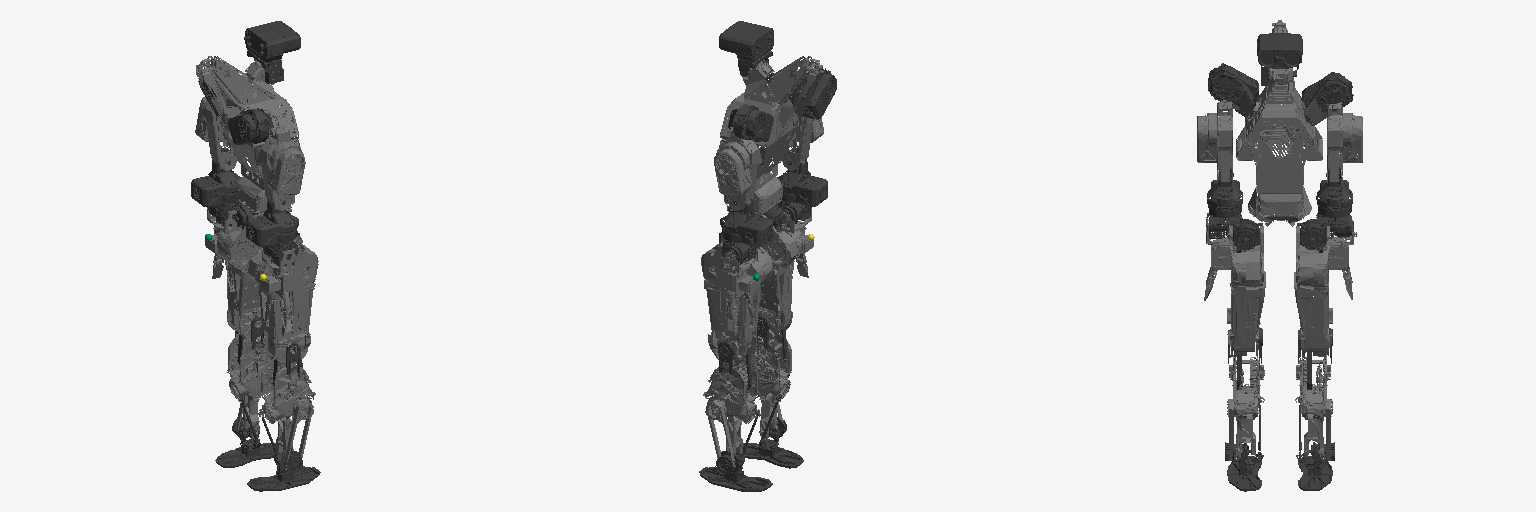
--- Facts derived from the render (not from the file) ---
Views: 3 orthographic renders of the robot side by side, from view 1: azimuth 30°, elevation 25°; view 2: azimuth 150°, elevation 25°; view 3: azimuth 270°, elevation 25°.
Model draco_3 with 39 links and 38 joints (27 revolute, 11 fixed), rooted at torso_link, posed all joints at 0.
Visible links, largest first — view 1: torso_link, r_hip_fe_link, r_knee_fe_ld, l_hip_fe_link, r_shoulder_ie_link, l_knee_fe_ld, neck_pitch_link, r_elbow_fe_link, l_elbow_fe_link, r_sake_gripper_link, l_shoulder_ie_link, r_shoulder_fe_link (+3 smaller); view 2: torso_link, l_hip_fe_link, l_knee_fe_ld, r_hip_fe_link, l_shoulder_ie_link, r_knee_fe_ld, neck_pitch_link, l_elbow_fe_link, r_elbow_fe_link, l_sake_gripper_link, l_shoulder_fe_link, l_ankle_ie_link (+5 smaller); view 3: torso_link, r_hip_fe_link, l_hip_fe_link, r_knee_fe_ld, l_knee_fe_ld, r_shoulder_ie_link, l_shoulder_ie_link, r_shoulder_fe_link, neck_pitch_link, l_shoulder_fe_link, l_elbow_fe_link, r_elbow_fe_link (+7 smaller).
Link boxes in pixels (left/top/right/bottom): torso_link: left=196, top=56, right=300, bottom=215; r_hip_fe_link: left=247, top=236, right=318, bottom=365; r_knee_fe_ld: left=257, top=358, right=315, bottom=470; l_hip_fe_link: left=217, top=213, right=264, bottom=340; r_shoulder_ie_link: left=261, top=126, right=305, bottom=210; l_knee_fe_ld: left=227, top=333, right=271, bottom=439; neck_pitch_link: left=244, top=21, right=300, bottom=83; r_elbow_fe_link: left=246, top=195, right=298, bottom=246; l_elbow_fe_link: left=191, top=148, right=241, bottom=206; r_sake_gripper_link: left=260, top=248, right=297, bottom=332; l_shoulder_ie_link: left=195, top=97, right=237, bottom=170; r_shoulder_fe_link: left=228, top=108, right=274, bottom=145; torso_link: left=719, top=56, right=823, bottom=215; l_hip_fe_link: left=701, top=238, right=772, bottom=365; l_knee_fe_ld: left=703, top=358, right=762, bottom=470; r_hip_fe_link: left=754, top=203, right=802, bottom=339; l_shoulder_ie_link: left=714, top=127, right=758, bottom=210; r_knee_fe_ld: left=749, top=334, right=791, bottom=439; neck_pitch_link: left=719, top=21, right=773, bottom=76; l_elbow_fe_link: left=720, top=194, right=772, bottom=246; r_elbow_fe_link: left=777, top=148, right=827, bottom=206; l_sake_gripper_link: left=721, top=246, right=759, bottom=331; l_shoulder_fe_link: left=728, top=104, right=773, bottom=141; l_ankle_ie_link: left=699, top=411, right=772, bottom=491; torso_link: left=1236, top=20, right=1322, bottom=226; r_hip_fe_link: left=1227, top=223, right=1265, bottom=356; l_hip_fe_link: left=1294, top=226, right=1332, bottom=357; r_knee_fe_ld: left=1227, top=355, right=1264, bottom=460; l_knee_fe_ld: left=1295, top=354, right=1332, bottom=460; r_shoulder_ie_link: left=1197, top=100, right=1232, bottom=185; l_shoulder_ie_link: left=1327, top=102, right=1362, bottom=185; r_shoulder_fe_link: left=1208, top=63, right=1259, bottom=117; neck_pitch_link: left=1257, top=33, right=1302, bottom=85; l_shoulder_fe_link: left=1301, top=72, right=1353, bottom=125; l_elbow_fe_link: left=1316, top=167, right=1352, bottom=217; r_elbow_fe_link: left=1207, top=167, right=1242, bottom=217.
Bounding box of the posed robot: 0.3421 × 0.4744 × 1.38 m (x, y, z).
24 mesh visuals loaded from 30 distinct referenced files (24 binary STL); not drawn: 6 (reference not matched to a file when rendering).

The robot description file, URDF, robot "draco_3":
<?xml version="1.0" ?>
<robot name="draco_3" xmlns:xacro="http://www.ros.org/wiki/xacro">

  <material name = "dark_gray">
      <color rgba="0.3 0.3 0.3 1"/>
  </material>

  <material name="gray">
    <color rgba="0.5 0.5 0.5 1.0"/>
  </material>

  <material name = "light_blue">
      <color rgba="0.52 0.73 1 1"/>
  </material>

  <material name = "black">
      <color rgba="0 0 0 1"/>
  </material>

  <!--=============================== root (torso) ===========================-->
  <link name="torso_link">
    <visual>
      <origin rpy="0 -0 0" xyz="0 0 0"/>
      <geometry>
        <mesh filename="meshes/torso_link.stl"/>
      </geometry>
      <material name="gray"/>
    </visual>
    <inertial>
      <origin rpy="0 0 0" xyz="-0.0310745 -0.000497416 0.137484"/>
      <mass value="6.41443"/>
      <inertia ixx="0.171435" ixy="6.32882e-05" ixz="0.0271615" iyy="0.175671" iyz="0.000581149" izz="0.036373"/>
    </inertial>
  </link>

  <!--=============================== torso_com (torso_com_link) ===========================-->
  <joint name="torso_com" type="fixed">
    <origin rpy="0 0 0" xyz="-0.0310745 -0.000497416 0.137484"/>
    <parent link="torso_link"/>
    <child link="torso_com_link"/>
  </joint>
  <link name="torso_com_link">
    <inertial>
      <origin rpy="0 0 0" xyz="0 0 0"/>
      <mass value="1e-9"/>
      <inertia ixx="0" ixy="0" ixz="0" iyy="0" iyz="0" izz="0"/>
    </inertial>
  </link>

  <!--=============================== neck_pitch (neck_pitch_link) ===========================-->
  <joint name="neck_pitch" type="revolute">
    <origin rpy="0 0 0" xyz="-0.0025 0 0.352"/>
    <parent link="torso_link"/>
    <child link="neck_pitch_link"/>
    <axis xyz="0 1 0"/>
    <limit effort="8.8" lower="-0.523599" upper="1.309" velocity="82.8"/>
    <joint_properties friction="0.0"/>
  </joint>
  <link name="neck_pitch_link">
    <visual>
      <origin rpy="0 -0 0" xyz="0 0 0"/>
      <geometry>
        <mesh filename="meshes/neck_pitch_link.stl"/>
      </geometry>
      <material name="dark_gray"/>
    </visual>
    <inertial>
      <origin rpy="0 0 0" xyz="0.0133603 -0.00105814 0.0772145"/>
      <mass value="1.22948"/>
      <inertia ixx="0.00233791" ixy="-2.09082e-05" ixz="-0.000158016" iyy="0.00192287" iyz="-9.56707e-05" izz="0.00275375"/>
    </inertial>
  </link>

  <!--=============================== l_shoulder_fe (l_shoulder_fe_link) ===========================-->
  <joint name="l_shoulder_fe" type="revolute">
    <origin rpy="0.523599 0 0" xyz="-0.05 0.156 0.2625"/>
    <parent link="torso_link"/>
    <child link="l_shoulder_fe_link"/>
    <axis xyz="0 1 0"/>
    <limit effort="18" lower="-2.26893" upper="0.698132" velocity="30"/>
    <joint_properties friction="0.0"/>
  </joint>
  <link name="l_shoulder_fe_link">
    <visual>
      <origin rpy="0 -0 0" xyz="0 0 0"/>
      <geometry>
        <mesh filename="meshes/l_shoulder_fe_link.stl"/>
      </geometry>
      <material name="dark_gray"/>
    </visual>
    <inertial>
      <origin rpy="0 0 0" xyz="-0.0270089 -0.0272215 0"/>
      <mass value="1.02127"/>
      <inertia ixx="0.003" ixy="0.000188" ixz="-1.077e-04" iyy="0.002" iyz="-4.214e-07" izz="0.002"/>
    </inertial>
  </link>

  <!--=============================== l_shoulder_aa (l_shoulder_aa_link) ===========================-->
  <joint name="l_shoulder_aa" type="revolute">
    <origin rpy="-0.523599 0 0" xyz="0 0 0"/>
    <parent link="l_shoulder_fe_link"/>
    <child link="l_shoulder_aa_link"/>
    <axis xyz="1 0 0"/>
    <limit effort="18" lower="0" upper="2.0944" velocity="30"/>
    <joint_properties friction="0.0"/>
  </joint>
  <link name="l_shoulder_aa_link">
    <visual>
      <origin rpy="0 -0 0" xyz="0 0 0"/>
      <geometry>
        <mesh filename="meshes/l_shoulder_aa_link.stl"/>
      </geometry>
      <material name="dark_gray"/>
    </visual>
    <inertial>
      <origin rpy="0 0 0" xyz="0.0189446 0.000135529 0.00688183"/>
      <mass value="0.880498"/>
      <inertia ixx="0.00104194" ixy="5.17675e-06" ixz="-0.000110264" iyy="0.00190054" iyz="6.87354e-06" izz="0.00224159"/>
    </inertial>
  </link>

  <!--=============================== l_shoulder_ie (l_shoulder_ie_link) ===========================-->
  <joint name="l_shoulder_ie" type="revolute">
    <origin rpy="0 0 0" xyz="0 0 0"/>
    <parent link="l_shoulder_aa_link"/>
    <child link="l_shoulder_ie_link"/>
    <axis xyz="0 0 1"/>
    <limit effort="18" lower="-1.48353" upper="1.48353" velocity="30"/>
    <joint_properties friction="0.0"/>
  </joint>
  <link name="l_shoulder_ie_link">
    <visual>
      <origin rpy="0 -0 0" xyz="0 0 0"/>
      <geometry>
        <mesh filename="meshes/l_shoulder_ie_link.stl"/>
      </geometry>
      <material name="gray"/>
    </visual>
    <inertial>
      <origin rpy="0 0 0" xyz="-0.00401807 0.0300008 -0.137263"/>
      <mass value="1.21235"/>
      <inertia ixx="0.00490878" ixy="4.35994e-05" ixz="-6.63613e-05" iyy="0.00459797" iyz="3.61794e-05" izz="0.00207282"/>
    </inertial>
  </link>

  <!--=============================== l_elbow_fe (l_elbow_fe_link) ===========================-->
  <joint name="l_elbow_fe" type="revolute">
    <origin rpy="0 0 0" xyz="0 0 -0.25"/>
    <parent link="l_shoulder_ie_link"/>
    <child link="l_elbow_fe_link"/>
    <axis xyz="0 1 0"/>
    <limit effort="10" lower="-2.0944" upper="0.0872665" velocity="37.1"/>
    <joint_properties friction="0.0"/>
  </joint>
  <link name="l_elbow_fe_link">
    <visual>
      <origin rpy="0 -0 0" xyz="0 0 0"/>
      <geometry>
        <mesh filename="meshes/l_elbow_fe_link.stl"/>
      </geometry>
      <material name="dark_gray"/>
    </visual>
    <inertial>
      <origin rpy="0 0 0" xyz="-0.0190443 0 -0.0633779"/>
      <mass value="0.989887"/>
      <inertia ixx="0.00220347" ixy="-2.91162e-08" ixz="-0.000310918" iyy="0.00297439" iyz="2.27665e-07" izz="0.0021045"/>
    </inertial>
  </link>

  <!--=============================== l_wrist_ps (l_wrist_ps_link) ===========================-->
  <joint name="l_wrist_ps" type="revolute">
    <origin rpy="0 0 0" xyz="0 0 0"/>
    <parent link="l_elbow_fe_link"/>
    <child link="l_wrist_ps_link"/>
    <axis xyz="0 0 1"/>
    <limit effort="12" lower="-1.5708" upper="1.5708" velocity="44.5"/>
    <joint_properties friction="0.0"/>
  </joint>
  <link name="l_wrist_ps_link">
    <visual>
      <origin rpy="0 -0 0" xyz="0 0 0"/>
      <geometry>
        <mesh filename="meshes/l_wrist_ps_link.stl"/>
      </geometry>
      <material name="dark_gray"/>
    </visual>
    <inertial>
      <origin rpy="0 0 0" xyz="0.000433726 0.0158433 -0.154"/>
      <mass value="0.64434"/>
      <inertia ixx="0.001" ixy="1.05504e-05" ixz="-5.41208e-06" iyy="0.001" iyz="4.65277e-05" izz="0.001"/>
    </inertial>
  </link>

  <!--=============================== l_wrist_pitch (l_wrist_pitch_link) ===========================-->
  <joint name="l_wrist_pitch" type="revolute">
    <origin rpy="0 0 0" xyz="0 0 -0.1578"/>
    <parent link="l_wrist_ps_link"/>
    <child link="l_wrist_pitch_link"/>
    <axis xyz="0 1 0"/>
    <limit effort="8.8" lower="-1.5708" upper="1.5708" velocity="82.8"/>
    <joint_properties friction="0.0"/>
  </joint>
  <link name="l_wrist_pitch_link">
    <inertial>
      <origin rpy="0 0 0" xyz="0 0 0"/>
      <mass value="1e-9"/>
      <inertia ixx="0" ixy="0" ixz="0" iyy="0" iyz="0" izz="0"/>
    </inertial>
  </link>

  <!--=============================== l_wrist_mount (l_sake_gripper_link) ===========================-->
  <joint name="l_wrist_mount" type="fixed">
    <origin rpy="0 0 0" xyz="0 0 0"/>
    <parent link="l_wrist_pitch_link"/>
    <child link="l_sake_gripper_link"/>
  </joint>
  <link name="l_sake_gripper_link">
    <visual>
      <origin rpy="0 -0 3.14" xyz="0 0 0"/>
      <geometry>
        <mesh filename="meshes/l_sake_gripper_link.stl"/>
      </geometry>
      <material name="gray"/>
    </visual>
    <inertial>
      <origin rpy="0 0 0" xyz="5.4498e-05 0.000382544 -0.0372594"/>
      <mass value="0.545"/>
      <inertia ixx="0.001" ixy="3.07738e-09" ixz="2.26958e-07" iyy="0.0004628" iyz="-6.35882e-06" izz="0.001"/>
    </inertial>
  </link>

  <!--=============================== l_camera_frame (l_camera) ===========================-->
  <joint name="l_camera_frame" type="fixed">
      <!--circle-->
      <!--<origin rpy="0 0 0" xyz="-0.05535 0 -0.0975"/> -->
      <!--camera (45 deg)-->
      <!--<origin rpy="0 2.355 0" xyz="-0.07267 0 -0.0802"/> -->
      <!--camera (90 deg)-->
      <origin rpy="0 3.14 0" xyz="-0.05535 0 -0.073"/>
    <parent link="l_sake_gripper_link"/>
    <child link="l_camera"/>
    <axis xyz="0 0 0"/>
  </joint>
  <link name="l_camera">
    <inertial>
      <origin rpy="0 0 0" xyz="0 0 0"/>
      <mass value="1e-9"/>
      <inertia ixx="0" ixy="0" ixz="0" iyy="0" iyz="0" izz="0"/>
    </inertial>
    <visual>
      <origin rpy="0 0 0" xyz="0 0 0"/>
      <geometry>
          <sphere radius="0.01"/>
      </geometry>
    </visual>
  </link>

  <!--=============================== l_hand_contact_frame (l_hand_contact) ===========================-->
  <joint name="l_hand_contact_frame" type="fixed">
    <origin rpy="0 0 0" xyz="0 0 -0.150052"/>
    <parent link="l_sake_gripper_link"/>
    <child link="l_hand_contact"/>
    <axis xyz="0 0 0"/>
  </joint>
  <link name="l_hand_contact">
    <inertial>
      <origin rpy="0 0 0" xyz="0 0 0"/>
      <mass value="1e-9"/>
      <inertia ixx="0" ixy="0" ixz="0" iyy="0" iyz="0" izz="0"/>
    </inertial>
  </link>

  <!--=============================== r_shoulder_fe (r_shoulder_fe_link) ===========================-->
  <joint name="r_shoulder_fe" type="revolute">
    <origin rpy="-0.523599 0 0" xyz="-0.05 -0.156 0.2625"/>
    <parent link="torso_link"/>
    <child link="r_shoulder_fe_link"/>
    <axis xyz="0 1 0"/>
    <limit effort="18" lower="-2.26893" upper="0.698132" velocity="30"/>
    <joint_properties friction="0.0"/>
  </joint>
  <link name="r_shoulder_fe_link">
    <visual>
      <origin rpy="0 -0 0" xyz="0 0 0"/>
      <geometry>
        <mesh filename="meshes/r_shoulder_fe_link.stl"/>
      </geometry>
      <material name="dark_gray"/>
    </visual>
    <inertial>
      <origin rpy="0 0 0" xyz="-0.0825089 0.0272215 6.40505e-05"/>
      <mass value="1.02127"/>
      <inertia ixx="0.003" ixy="-0.000198378" ixz="3.31293e-05" iyy="0.002" iyz="-3.00004e-06" izz="0.002"/>
    </inertial>
  </link>

  <!--=============================== r_shoulder_aa (r_shoulder_aa_link) ===========================-->
  <joint name="r_shoulder_aa" type="revolute">
    <origin rpy="0.523599 0 0" xyz="0 0 0"/>
    <parent link="r_shoulder_fe_link"/>
    <child link="r_shoulder_aa_link"/>
    <axis xyz="1 0 0"/>
    <limit effort="18" lower="-2.0944" upper="0" velocity="30"/>
    <joint_properties friction="0.0"/>
  </joint>
  <link name="r_shoulder_aa_link">
    <visual>
      <origin rpy="0 -0 0" xyz="0 0 0"/>
      <geometry>
        <mesh filename="meshes/r_shoulder_aa_link.stl"/>
      </geometry>
      <material name="dark_gray"/>
    </visual>
    <inertial>
      <origin rpy="0 0 0" xyz="0.0189446 0.000135529 0.00688183"/>
      <mass value="0.880498"/>
      <inertia ixx="0.00104194" ixy="5.17675e-06" ixz="-0.000110264" iyy="0.00190054" iyz="6.87354e-06" izz="0.00224159"/>
    </inertial>
  </link>

  <!--=============================== r_shoulder_ie (r_shoulder_ie_link) ===========================-->
  <joint name="r_shoulder_ie" type="revolute">
    <origin rpy="0 0 0" xyz="0 0 0"/>
    <parent link="r_shoulder_aa_link"/>
    <child link="r_shoulder_ie_link"/>
    <axis xyz="0 0 1"/>
    <limit effort="18" lower="-1.48353" upper="1.48353" velocity="30"/>
    <joint_properties friction="0.0"/>
  </joint>
  <link name="r_shoulder_ie_link">
    <visual>
      <origin rpy="0 -0 0" xyz="0 0 0"/>
      <geometry>
        <mesh filename="meshes/r_shoulder_ie_link.stl"/>
      </geometry>
      <material name="gray"/>
    </visual>
    <inertial>
      <origin rpy="0 0 0" xyz="-0.00404627 -0.029987 -0.137257"/>
      <mass value="1.21235"/>
      <inertia ixx="0.00490973" ixy="-4.37742e-05" ixz="-6.62765e-05" iyy="0.00459809" iyz="-3.39569e-05" izz="0.002074"/>
    </inertial>
  </link>

  <!--=============================== r_elbow_fe (r_elbow_fe_link) ===========================-->
  <joint name="r_elbow_fe" type="revolute">
    <origin rpy="0 0 0" xyz="0 0 -0.25"/>
    <parent link="r_shoulder_ie_link"/>
    <child link="r_elbow_fe_link"/>
    <axis xyz="0 1 0"/>
    <limit effort="10" lower="-2.0944" upper="0.0872665" velocity="37.1"/>
    <joint_properties friction="0.0"/>
  </joint>
  <link name="r_elbow_fe_link">
    <visual>
      <origin rpy="0 -0 0" xyz="0 0 0"/>
      <geometry>
        <mesh filename="meshes/r_elbow_fe_link.stl"/>
      </geometry>
      <material name="dark_gray"/>
    </visual>
    <inertial>
      <origin rpy="0 0 0" xyz="-0.0190415 1.75896e-05 -0.0633849"/>
      <mass value="0.990031"/>
      <inertia ixx="0.00220407" ixy="-2.9063e-08" ixz="-0.000310786" iyy="0.00297478" iyz="2.27528e-07" izz="0.00210481"/>
    </inertial>
  </link>

  <!--=============================== r_wrist_ps (r_wrist_ps_link) ===========================-->
  <joint name="r_wrist_ps" type="revolute">
    <origin rpy="0 0 0" xyz="0 0 0"/>
    <parent link="r_elbow_fe_link"/>
    <child link="r_wrist_ps_link"/>
    <axis xyz="0 0 1"/>
    <limit effort="12" lower="-1.5708" upper="1.5708" velocity="44.5"/>
    <joint_properties friction="0.0"/>
  </joint>
  <link name="r_wrist_ps_link">
    <visual>
      <origin rpy="0 -0 0" xyz="0 0 0"/>
      <geometry>
        <mesh filename="meshes/r_wrist_ps_link.stl"/>
      </geometry>
      <material name="dark_gray"/>
    </visual>
    <inertial>
      <origin rpy="0 0 0" xyz="0.000229308 0.0158433 -0.154481"/>
      <mass value="0.64434"/>
      <inertia ixx="0.001" ixy="5.23851e-06" ixz="-4.22277e-06" iyy="0.001" iyz="3.40912e-05" izz="0.001"/>
    </inertial>
  </link>

  <!--=============================== r_wrist_pitch (r_wrist_pitch_link) ===========================-->
  <joint name="r_wrist_pitch" type="revolute">
    <origin rpy="0 0 0" xyz="0 0 -0.1578"/>
    <parent link="r_wrist_ps_link"/>
    <child link="r_wrist_pitch_link"/>
    <axis xyz="0 1 0"/>
    <limit effort="8.8" lower="-1.5708" upper="1.5708" velocity="82.8"/>
    <joint_properties friction="0.0"/>
  </joint>
  <link name="r_wrist_pitch_link">
    <inertial>
      <origin rpy="0 0 0" xyz="0 0 0"/>
      <mass value="1e-9"/>
      <inertia ixx="0" ixy="0" ixz="0" iyy="0" iyz="0" izz="0"/>
    </inertial>
  </link>

  <!--=============================== r_wrist_mount (r_sake_gripper_link) ===========================-->
  <joint name="r_wrist_mount" type="fixed">
    <origin rpy="0 0 0" xyz="0 0 0"/>
    <parent link="r_wrist_pitch_link"/>
    <child link="r_sake_gripper_link"/>
  </joint>
  <link name="r_sake_gripper_link">
    <visual>
      <origin rpy="0 -0 3.14" xyz="0 0 0"/>
      <geometry>
        <mesh filename="meshes/r_sake_gripper_link.stl"/>
      </geometry>
      <material name="gray"/>
    </visual>
    <inertial>
      <origin rpy="0 0 0" xyz="5.4498e-05 0.000382544 -0.0372594"/>
      <mass value="0.545"/>
      <inertia ixx="0.001" ixy="3.07738e-09" ixz="2.26958e-07" iyy="0.0004628" iyz="-6.35882e-06" izz="0.001"/>
    </inertial>
  </link>

  <!--=============================== r_camera_frame (r_camera) ===========================-->
  <joint name="r_camera_frame" type="fixed">
      <!--circle-->
      <!--<origin rpy="0 0 0" xyz="-0.05535 0 -0.0975"/> -->
      <!--camera (45 deg)-->
      <!--<origin rpy="0 2.355 0" xyz="-0.07267 0 -0.0802"/> -->
      <!--camera (90 deg)-->
      <origin rpy="0 3.14 0" xyz="-0.05535 0 -0.073"/>
    <parent link="r_sake_gripper_link"/>
    <child link="r_camera"/>
    <axis xyz="0 0 0"/>
  </joint>
  <link name="r_camera">
    <inertial>
      <origin rpy="0 0 0" xyz="0 0 0"/>
      <mass value="1e-9"/>
      <inertia ixx="0" ixy="0" ixz="0" iyy="0" iyz="0" izz="0"/>
    </inertial>
    <visual>
      <origin rpy="0 0 0" xyz="0 0 0"/>
      <geometry>
          <sphere radius="0.01"/>
      </geometry>
    </visual>
  </link>

  <!--=============================== r_hand_contact_frame (r_hand_contact) ===========================-->
  <joint name="r_hand_contact_frame" type="fixed">
    <origin rpy="0 0 0" xyz="0 0 -0.150052"/>
    <parent link="r_sake_gripper_link"/>
    <child link="r_hand_contact"/>
    <axis xyz="0 0 0"/>
  </joint>
  <link name="r_hand_contact">
    <inertial>
      <origin rpy="0 0 0" xyz="0 0 0"/>
      <mass value="1e-9"/>
      <inertia ixx="0" ixy="0" ixz="0" iyy="0" iyz="0" izz="0"/>
    </inertial>
  </link>

  <!--=============================== l_hip_ie (l_hip_ie_link) ===========================-->
  <joint name="l_hip_ie" type="revolute">
    <origin rpy="0.523599 0 0" xyz="0 0.06 -0.0893782"/>
    <parent link="torso_link"/>
    <child link="l_hip_ie_link"/>
    <axis xyz="0 0 1"/>
    <limit effort="44" lower="-0.872665" upper="0.872665" velocity="8.1"/>
    <joint_properties friction="0.0"/>
  </joint>
  <link name="l_hip_ie_link">
    <visual>
      <origin rpy="0 -0 0" xyz="0 0 0"/>
      <geometry>
        <mesh filename="meshes/l_hip_ie_link.stl"/>
      </geometry>
      <material name="dark_gray"/>
    </visual>
    <inertial>
      <origin rpy="0 0 0" xyz="-0.00699855 0.00580214 -0.0245826"/>
      <mass value="0.139743"/>
      <inertia ixx="0.000107251" ixy="-6.29131e-06" ixz="5.03369e-06" iyy="0.000199571" iyz="-2.59816e-07" izz="0.00015888"/>
    </inertial>
  </link>

  <!--=============================== l_hip_aa (l_hip_aa_link) ===========================-->
  <joint name="l_hip_aa" type="revolute">
    <origin rpy="-0.523599 0 0" xyz="0 0 -0.07"/>
    <parent link="l_hip_ie_link"/>
    <child link="l_hip_aa_link"/>
    <axis xyz="1 0 0"/>
    <limit effort="56" lower="-0.261799" upper="0.785398" velocity="5.1"/>
    <joint_properties friction="0.0"/>
  </joint>
  <link name="l_hip_aa_link">
    <visual>
      <origin rpy="0 -0 0" xyz="0 0 0"/>
      <geometry>
        <mesh filename="meshes/l_hip_aa_link.stl"/>
      </geometry>
      <material name="dark_gray"/>
    </visual>
    <inertial>
      <origin rpy="0 0 0" xyz="0.00107664 0.00164809 -0.00149004"/>
      <mass value="0.77975"/>
      <inertia ixx="0.001" ixy="1.93711e-05" ixz="-1.45347e-06" iyy="0.001" iyz="2.96392e-05" izz="0.001"/>
    </inertial>
  </link>

  <!--=============================== l_hip_fe (l_hip_fe_link) ===========================-->
  <joint name="l_hip_fe" type="revolute">
    <origin rpy="0 0 0" xyz="0 0 0"/>
    <parent link="l_hip_aa_link"/>
    <child link="l_hip_fe_link"/>
    <axis xyz="0 1 0"/>
    <limit effort="59.6" lower="-1.52716" upper="0.523599" velocity="36.7"/>
    <joint_properties friction="0.0"/>
  </joint>
  <link name="l_hip_fe_link">
    <visual>
      <origin rpy="0 -0 0" xyz="0 0 0"/>
      <geometry>
        <mesh filename="meshes/l_hip_fe_link.stl"/>
      </geometry>
      <material name="gray"/>
    </visual>
    <inertial>
      <origin rpy="0 0 0" xyz="0.00057 -0.00303734 -0.164021"/>
      <mass value="4.549"/>
      <inertia ixx="0.0497956" ixy="0.000306806" ixz="0.000744022" iyy="0.0552997" iyz="0.00394109" izz="0.0129964"/>
    </inertial>
  </link>

  <!--=============================== l_knee_fe_jp (l_knee_fe_lp) ===========================-->
  <joint name="l_knee_fe_jp" type="revolute">
    <origin rpy="0 0 0" xyz="0 0 -0.324231"/>
    <parent link="l_hip_fe_link"/>
    <child link="l_knee_fe_lp"/>
    <axis xyz="0 1 0"/>
    <limit effort="40.85" lower="-0.0872665" upper="1.52716" velocity="13.35"/>
    <joint_properties friction="0.0"/>
  </joint>
  <link name="l_knee_fe_lp">
    <visual>
      <origin rpy="0 -0 0" xyz="0 0 0"/>
      <geometry>
        <mesh filename="meshes/l_knee_fe_lp.stl"/>
      </geometry>
      <material name="dark_gray"/>
    </visual>
    <inertial>
      <origin rpy="0 0 0" xyz="-4.80156e-09 0.00425279 -0.0291238"/>
      <mass value="0.135683"/>
      <inertia ixx="0.00048051" ixy="4.39106e-11" ixz="3.91495e-11" iyy="0.000329965" iyz="-3.71846e-05" izz="0.000282787"/>
    </inertial>
  </link>

  <!--=============================== l_knee_adj (l_knee_adj_link) ===========================-->
  <joint name="l_knee_adj" type="fixed">
    <origin rpy="0 0 0" xyz="0 0 -0.0557693"/>
    <parent link="l_knee_fe_lp"/>
    <child link="l_knee_adj_link"/>
  </joint>
  <link name="l_knee_adj_link">
    <visual>
      <origin rpy="0 -0 0" xyz="0 0 0"/>
      <geometry>
        <mesh filename="meshes/l_knee_adj_link.stl"/>
      </geometry>
      <material name="dark_gray"/>
    </visual>
    <inertial>
      <origin rpy="0 0 0" xyz="0 0.006 -0.0323676"/>
      <mass value="0.090042"/>
      <inertia ixx="0.000230283" ixy="7.86884e-09" ixz="-1.29921e-20" iyy="7.20839e-05" iyz="-1.23413e-18" izz="0.000195694"/>
    </inertial>
  </link>

  <!--=============================== l_knee_fe_jd (l_knee_fe_ld) ===========================-->
  <joint name="l_knee_fe_jd" type="revolute">
    <origin rpy="0 0 0" xyz="0 0 -0.1115386"/>
    <parent link="l_knee_fe_lp"/>
    <child link="l_knee_fe_ld"/>
    <axis xyz="0 1 0"/>
    <limit effort="40.85" lower="-0.0872665" upper="1.52716" velocity="13.35"/>
  </joint>
  <link name="l_knee_fe_ld">
    <visual>
      <origin rpy="0 -0 0" xyz="0 0 0"/>
      <geometry>
        <mesh filename="meshes/l_knee_fe_ld.stl"/>
      </geometry>
      <material name="gray"/>
    </visual>
    <inertial>
      <origin rpy="0 0 0" xyz="0.00392246 0.00238405 -0.07941"/>
      <mass value="2.55664"/>
      <inertia ixx="0.011" ixy="-0.000259001" ixz="-0.000169" iyy="0.013" iyz="0.001" izz="0.005"/>
    </inertial>
  </link>

  <!--=============================== l_ankle_fe (l_ankle_fe_link) ===========================-->
  <joint name="l_ankle_fe" type="revolute">
    <origin rpy="0 0 0" xyz="0 0.00599 -0.248231"/>
    <parent link="l_knee_fe_ld"/>
    <child link="l_ankle_fe_link"/>
    <axis xyz="0 1 0"/>
    <limit effort="44" lower="-1.5708" upper="1.0472" velocity="8.1"/>
    <joint_properties friction="0.0"/>
  </joint>
  <link name="l_ankle_fe_link">
    <visual>
      <origin rpy="0 -0 0" xyz="0 0 0"/>
      <geometry>
        <mesh filename="meshes/l_ankle_fe_link.stl"/>
      </geometry>
      <material name="dark_gray"/>
    </visual>
    <inertial>
      <origin rpy="0 0 0" xyz="2.67715e-05 0.0277455 -0.000699218"/>
      <mass value="0.183143"/>
      <inertia ixx="8.90758e-05" ixy="2.90654e-07" ixz="-2.26413e-06" iyy="5.81098e-05" iyz="1.95082e-07" izz="0.000101604"/>
    </inertial>
  </link>

  <!--=============================== l_ankle_ie (l_ankle_ie_link) ===========================-->
  <joint name="l_ankle_ie" type="revolute">
    <origin rpy="0 0 0" xyz="0 0 0"/>
    <parent link="l_ankle_fe_link"/>
    <child link="l_ankle_ie_link"/>
    <axis xyz="1 0 0"/>
    <limit effort="30" lower="-0.785398" upper="0.261799" velocity="11.1"/>
    <joint_properties friction="0.0"/>
  </joint>
  <link name="l_ankle_ie_link">
    <visual>
      <origin rpy="0 -0 0" xyz="0 0 0"/>
      <geometry>
        <mesh filename="meshes/l_ankle_ie_link.stl"/>
      </geometry>
      <material name="dark_gray"/>
    </visual>
    <!--<visual>-->
      <!--<origin rpy="0 -0 0" xyz="0 -0.005 -0.046"/>-->
      <!--<geometry>-->
        <!--<box size="0.2 0.08 0.0591"/>-->
      <!--</geometry>-->
    <!--</visual>-->
    <collision>
      <origin rpy="0 -0 0" xyz="0 -0.005 -0.046"/>
      <geometry>
        <box size="0.2 0.1 0.0591"/>
      </geometry>
    </collision>
    <inertial>
      <origin rpy="0 0 0" xyz="-0.00320518 -0.0068186 -0.0444808"/>
      <mass value="0.436553"/>
      <inertia ixx="0.000962376" ixy="-2.58627e-05" ixz="0.000122026" iyy="0.00165909" iyz="0.000188621" izz="0.00108264"/>
    </inertial>
  </link>

  <!--=============================== l_foot_contact_frame (l_foot_contact) ===========================-->
  <joint name="l_foot_contact_frame" type="fixed">
    <origin rpy="0 0 0" xyz="0 0 -0.076"/>
    <parent link="l_ankle_ie_link"/>
    <child link="l_foot_contact"/>
  </joint>
  <link name="l_foot_contact">
    <inertial>
      <origin rpy="0 0 0" xyz="0 0 0"/>
      <mass value="1e-9"/>
      <inertia ixx="0" ixy="0" ixz="0" iyy="0" iyz="0" izz="0"/>
    </inertial>
  </link>

  <!--=============================== r_hip_ie (r_hip_ie_link) ===========================-->
  <joint name="r_hip_ie" type="revolute">
    <origin rpy="-0.523599 0 0" xyz="0 -0.06 -0.0893782"/>
    <parent link="torso_link"/>
    <child link="r_hip_ie_link"/>
    <axis xyz="0 0 1"/>
    <limit effort="44" lower="-0.872665" upper="0.872665" velocity="8.1"/>
    <joint_properties friction="0.0"/>
  </joint>
  <link name="r_hip_ie_link">
    <visual>
      <origin rpy="0 -0 0" xyz="0 0 0"/>
      <geometry>
        <mesh filename="meshes/r_hip_ie_link.stl"/>
      </geometry>
      <material name="dark_gray"/>
    </visual>
    <inertial>
      <origin rpy="0 0 0" xyz="-0.00703461 -0.00580298 -0.0246181"/>
      <mass value="0.139506"/>
      <inertia ixx="0.000107149" ixy="6.38614e-06" ixz="5.12641e-06" iyy="0.000199317" iyz="2.66262e-07" izz="0.000158733"/>
    </inertial>
  </link>

  <!--=============================== r_hip_aa (r_hip_aa_link) ===========================-->
  <joint name="r_hip_aa" type="revolute">
    <origin rpy="0.523599 0 0" xyz="0 0 -0.07"/>
    <parent link="r_hip_ie_link"/>
    <child link="r_hip_aa_link"/>
    <axis xyz="1 0 0"/>
    <limit effort="56" lower="-0.785398" upper="0.261799" velocity="5.1"/>
    <joint_properties friction="0.0"/>
  </joint>
  <link name="r_hip_aa_link">
    <visual>
      <origin rpy="0 -0 0" xyz="0 0 0"/>
      <geometry>
        <mesh filename="meshes/r_hip_aa_link.stl"/>
      </geometry>
      <material name="dark_gray"/>
    </visual>
    <inertial>
      <origin rpy="0 0 0" xyz="-0.000513526 -0.0019221 -0.00112805"/>
      <mass value="0.849423"/>
      <inertia ixx="0.000807304" ixy="-2.90747e-05" ixz="1.16932e-05" iyy="0.000791593" iyz="-2.47696e-05" izz="0.000937825"/>
    </inertial>
  </link>

  <!--=============================== r_hip_fe (r_hip_fe_link) ===========================-->
  <joint name="r_hip_fe" type="revolute">
    <origin rpy="0 0 0" xyz="0 0 0"/>
    <parent link="r_hip_aa_link"/>
    <child link="r_hip_fe_link"/>
    <axis xyz="0 1 0"/>
    <limit effort="59.6" lower="-1.52716" upper="0.523599" velocity="36.7"/>
    <joint_properties friction="0.0"/>
  </joint>
  <link name="r_hip_fe_link">
    <visual>
      <origin rpy="0 -0 0" xyz="0 0 0"/>
      <geometry>
        <mesh filename="meshes/r_hip_fe_link.stl"/>
      </geometry>
      <material name="gray"/>
    </visual>
    <inertial>
      <origin rpy="0 0 0" xyz="0.00121565 -0.000254558 -0.171535"/>
      <mass value="4.983"/>
      <inertia ixx="0.057" ixy="-0.0003353" ixz="0.001" iyy="0.063" iyz="-0.004" izz="0.015"/>
    </inertial>
  </link>

  <!--=============================== r_knee_fe_jp (r_knee_fe_lp) ===========================-->
  <joint name="r_knee_fe_jp" type="revolute">
    <origin rpy="0 0 0" xyz="0 0 -0.324231"/>
    <parent link="r_hip_fe_link"/>
    <child link="r_knee_fe_lp"/>
    <axis xyz="0 1 0"/>
    <limit effort="40.85" lower="-0.0872665" upper="1.52716" velocity="13.35"/>
    <joint_properties friction="0.0"/>
  </joint>
  <link name="r_knee_fe_lp">
    <visual>
      <origin rpy="0 -0 0" xyz="0 -0.01 0"/>
      <geometry>
        <mesh filename="meshes/r_knee_fe_lp.stl"/>
      </geometry>
      <material name="dark_gray"/>
    </visual>
    <inertial>
      <origin rpy="0 0 0" xyz="4.28378e-09 -0.000374047 -0.0259832"/>
      <mass value="0.152083"/>
      <inertia ixx="0.001" ixy="4.75046e-11" ixz="-3.71034e-11" iyy="0.000343441" iyz="2.06816e-05" izz="0.000321184"/>
    </inertial>
  </link>

  <!--=============================== r_knee_adj (r_knee_adj_link) ===========================-->
  <joint name="r_knee_adj" type="fixed">
    <origin rpy="0 0 0" xyz="0 0 -0.0557693"/>
    <parent link="r_knee_fe_lp"/>
    <child link="r_knee_adj_link"/>
  </joint>
  <link name="r_knee_adj_link">
    <visual>
      <origin rpy="0 -0 0" xyz="0 0 0"/>
      <geometry>
        <mesh filename="meshes/r_knee_adj_link.stl"/>
      </geometry>
      <material name="dark_gray"/>
    </visual>
    <inertial>
      <origin rpy="0 0 0" xyz="0 -0.006 -0.0323676"/>
      <mass value="0.090042"/>
      <inertia ixx="0.000230283" ixy="7.86884e-09" ixz="2.52488e-19" iyy="7.20839e-05" iyz="-8.07064e-19" izz="0.000195694"/>
    </inertial>
  </link>

  <!--=============================== r_knee_fe_jd (r_knee_fe_ld) ===========================-->
  <joint name="r_knee_fe_jd" type="revolute">
    <origin rpy="0 0 0" xyz="0 0 -0.1115386"/>
    <parent link="r_knee_fe_lp"/>
    <child link="r_knee_fe_ld"/>
    <axis xyz="0 1 0"/>
    <limit effort="40.85" lower="-0.0872665" upper="1.52716" velocity="13.35"/>
    <joint_properties friction="0.0"/>
  </joint>
  <link name="r_knee_fe_ld">
    <visual>
      <origin rpy="0 -0 0" xyz="0 0 0"/>
      <geometry>
        <mesh filename="meshes/r_knee_fe_ld.stl"/>
      </geometry>
      <material name="gray"/>
    </visual>
    <inertial>
      <origin rpy="0 0 0" xyz="0.00388972 -0.00235124 -0.0784681"/>
      <mass value="2.58619"/>
      <inertia ixx="0.0110576" ixy="0.00025372" ixz="-0.000138968" iyy="0.0125163" iyz="-0.001" izz="0.005"/>
    </inertial>
  </link>

  <!--=============================== r_ankle_fe (r_ankle_fe_link) ===========================-->
  <joint name="r_ankle_fe" type="revolute">
    <origin rpy="0 0 0" xyz="0 -0.006 -0.248231"/>
    <parent link="r_knee_fe_ld"/>
    <child link="r_ankle_fe_link"/>
    <axis xyz="0 1 0"/>
    <limit effort="44" lower="-1.5708" upper="1.0472" velocity="8.1"/>
    <joint_properties friction="0.0"/>
  </joint>
  <link name="r_ankle_fe_link">
    <visual>
      <origin rpy="0 -0 0" xyz="0 0 0"/>
      <geometry>
        <mesh filename="meshes/r_ankle_fe_link.stl"/>
      </geometry>
      <material name="dark_gray"/>
    </visual>
    <inertial>
      <origin rpy="0 0 0" xyz="0 -0.0277456 -0.000698932"/>
      <mass value="0.183145"/>
      <inertia ixx="8.9077e-05" ixy="-5.7205e-07" ixz="-2.14649e-06" iyy="5.81093e-05" iyz="-1.95113e-07" izz="0.000101603"/>
    </inertial>
  </link>

  <!--=============================== r_ankle_ie (r_ankle_ie_link) ===========================-->
  <joint name="r_ankle_ie" type="revolute">
    <origin rpy="0 0 0" xyz="0 0 0"/>
    <parent link="r_ankle_fe_link"/>
    <child link="r_ankle_ie_link"/>
    <axis xyz="1 0 0"/>
    <limit effort="30" lower="-0.261799" upper="0.785398" velocity="11.1"/>
    <joint_properties friction="0.0"/>
  </joint>
  <link name="r_ankle_ie_link">
    <visual>
      <origin rpy="0 -0 0" xyz="0 0 0"/>
      <geometry>
        <mesh filename="meshes/r_ankle_ie_link.stl"/>
      </geometry>
      <material name="dark_gray"/>
    </visual>
    <!--<visual>-->
      <!--<origin rpy="0 -0 0" xyz="0 0.005 -0.046"/>-->
      <!--<geometry>-->
        <!--<box size="0.2 0.08 0.0591"/>-->
      <!--</geometry>-->
    <!--</visual>-->
    <collision>
      <origin rpy="0 -0 0" xyz="0 0.005 -0.046"/>
      <geometry>
        <box size="0.2 0.1 0.0591"/>
      </geometry>
    </collision>
    <inertial>
      <origin rpy="0 0 0" xyz="-0.00300438 0.00685638 -0.0443499"/>
      <mass value="0.437539"/>
      <inertia ixx="0.000967631" ixy="2.37588e-05" ixz="0.000131807" iyy="0.00163004" iyz="-0.000128971" izz="0.00111644"/>
    </inertial>
  </link>

  <!--=============================== r_foot_contact_frame (r_foot_contact) ===========================-->
  <joint name="r_foot_contact_frame" type="fixed">
    <origin rpy="0 0 0" xyz="0 0 -0.076"/>
    <parent link="r_ankle_ie_link"/>
    <child link="r_foot_contact"/>
  </joint>
  <link name="r_foot_contact">
    <inertial>
      <origin rpy="0 0 0" xyz="0 0 0"/>
      <mass value="1e-9"/>
      <inertia ixx="0" ixy="0" ixz="0" iyy="0" iyz="0" izz="0"/>
    </inertial>
  </link>
</robot>
